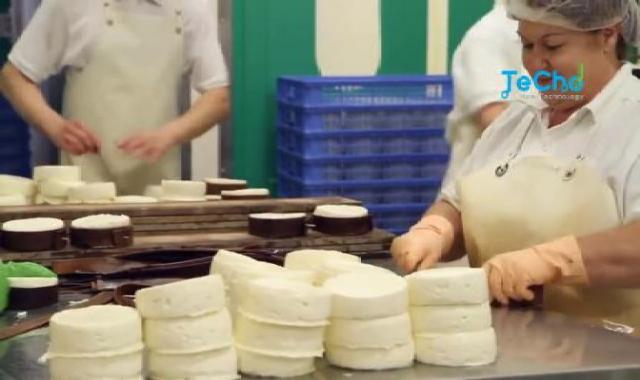hairnet: (493, 1, 640, 70)
